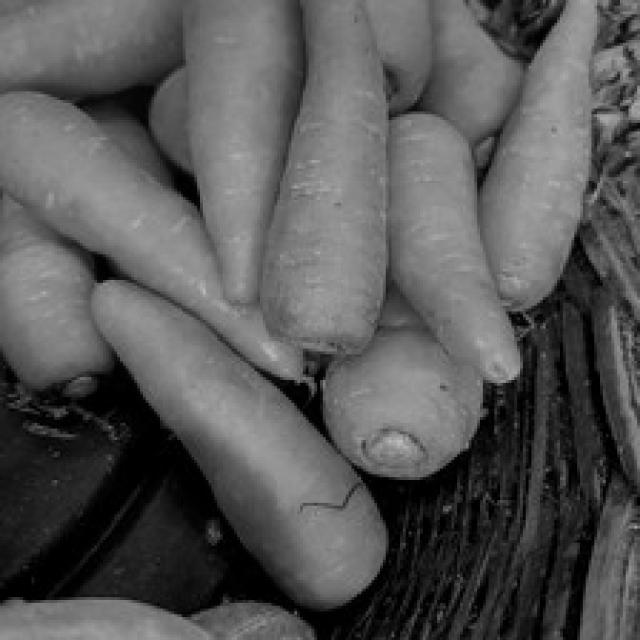Fresh_Carrot: (106, 260, 390, 609), (0, 82, 309, 391), (266, 0, 389, 346), (187, 0, 310, 322), (381, 117, 522, 376)
